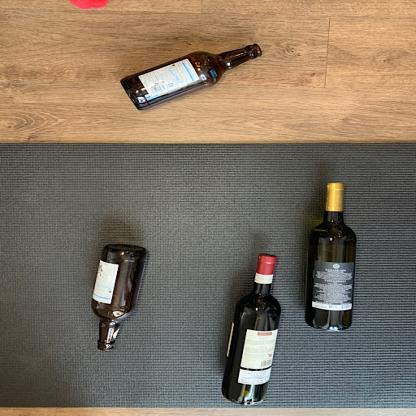trash: (218, 254, 288, 408), (119, 42, 265, 112), (301, 182, 356, 332), (87, 241, 150, 356)
